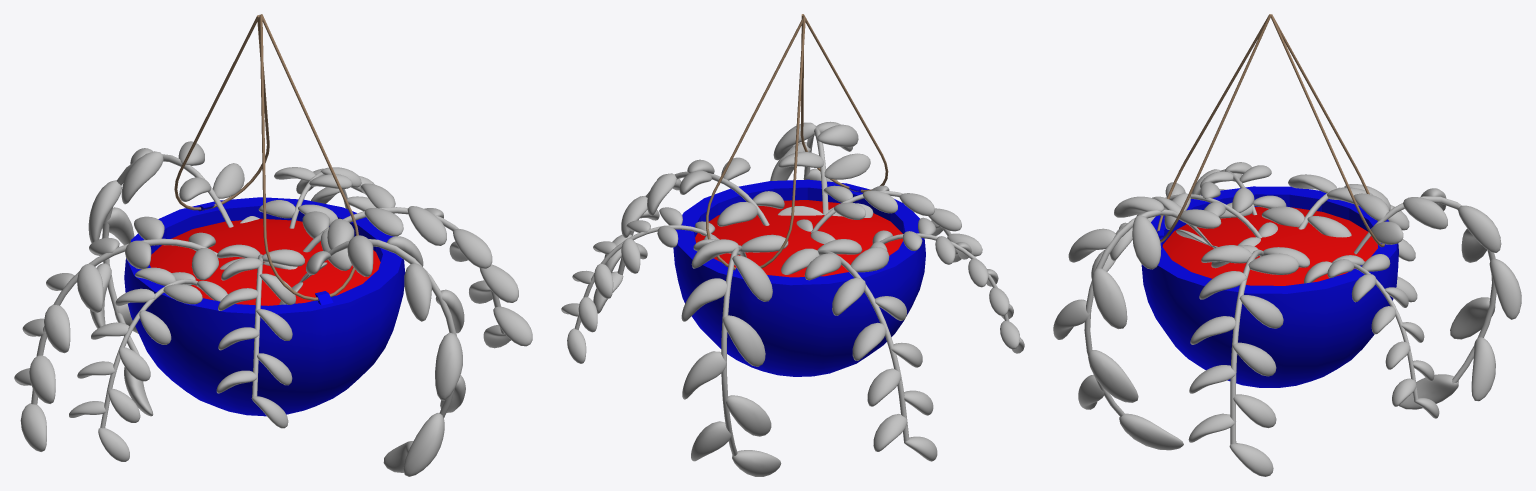
The model's file is HangingPlant.fbx.
The picture shows the model from 3 angles, left to right: view 1: azimuth 30°, elevation 25°; view 2: azimuth 150°, elevation 25°; view 3: azimuth 270°, elevation 25°; orthographic projection. The views are drawn at different scales.
Visible parts, largest first — view 1: HangingPlant7:hangingpot, HangingPlant7:pasted__pasted__pasted__pasted__pasted__pasted (×32), pasted__pasted__pSphere2, HangingPlant7:pasted__pasted__pasted__pasted__pasted__pSpher (×3), HangingPlant7:rope1, HangingPlant7:pasted__rope1, HangingPlant7:pasted__pCylinder1, HangingPlant7:pCylinder1, HangingPlant7:pasted__pasted__pCylinder2, HangingPlant7:pasted__pasted__pasted__pasted__pSphere1, HangingPlant7:pasted__pCylinder3, HangingPlant7:pasted__pasted__pCylinder3 (+1 smaller); view 2: HangingPlant7:pasted__pasted__pasted__pasted__pasted__pasted (×31), HangingPlant7:hangingpot, pasted__pasted__pSphere2, HangingPlant7:pasted__pasted__pasted__pasted__pasted__pSpher (×3), HangingPlant7:pasted__rope1, HangingPlant7:pasted__pCylinder1, HangingPlant7:pCylinder1, HangingPlant7:rope1, HangingPlant7:pasted__pasted__pCylinder1, HangingPlant7:pasted__pCylinder2, HangingPlant7:pasted__pasted__pCylinder2, HangingPlant7:pasted__pasted__pasted__pasted__pSphere1; view 3: HangingPlant7:pasted__pasted__pasted__pasted__pasted__pasted (×29), HangingPlant7:hangingpot, pasted__pasted__pSphere2, HangingPlant7:pasted__pasted__pasted__pasted__pasted__pSpher (×2), HangingPlant7:rope1, HangingPlant7:pasted__rope1, HangingPlant7:pasted__pasted__pCylinder2, HangingPlant7:pasted__pCylinder1, HangingPlant7:pasted__pCylinder2, HangingPlant7:pasted__pasted__pCylinder1.
Part boxes in pixels (bbox=[...]): HangingPlant7:hangingpot: bbox=[124, 197, 405, 416]; HangingPlant7:pasted__pasted__pasted__pasted__pasted__pasted (×32): bbox=[44, 151, 532, 476]; pasted__pasted__pSphere2: bbox=[149, 218, 380, 305]; HangingPlant7:pasted__pasted__pasted__pasted__pasted__pSpher (×3): bbox=[29, 355, 153, 461]; HangingPlant7:rope1: bbox=[259, 14, 358, 300]; HangingPlant7:pasted__rope1: bbox=[174, 15, 269, 210]; HangingPlant7:pasted__pCylinder1: bbox=[102, 154, 233, 354]; HangingPlant7:pCylinder1: bbox=[31, 238, 217, 404]; HangingPlant7:pasted__pasted__pCylinder2: bbox=[299, 239, 456, 417]; HangingPlant7:pasted__pasted__pasted__pasted__pSphere1: bbox=[20, 403, 46, 451]; HangingPlant7:pasted__pCylinder3: bbox=[100, 279, 197, 428]; HangingPlant7:pasted__pasted__pCylinder3: bbox=[252, 254, 263, 397]; HangingPlant7:pasted__pasted__pasted__pasted__pasted__pasted (×31): bbox=[567, 122, 961, 461]; HangingPlant7:hangingpot: bbox=[673, 179, 925, 376]; pasted__pasted__pSphere2: bbox=[695, 200, 902, 277]; HangingPlant7:pasted__pasted__pasted__pasted__pasted__pSpher (×3): bbox=[732, 390, 933, 476]; HangingPlant7:pasted__rope1: bbox=[706, 16, 805, 270]; HangingPlant7:pasted__pCylinder1: bbox=[721, 245, 746, 455]; HangingPlant7:pCylinder1: bbox=[817, 250, 909, 441]; HangingPlant7:rope1: bbox=[800, 14, 888, 192]; HangingPlant7:pasted__pasted__pCylinder1: bbox=[574, 225, 719, 329]; HangingPlant7:pasted__pCylinder2: bbox=[617, 171, 769, 275]; HangingPlant7:pasted__pasted__pCylinder2: bbox=[804, 126, 828, 215]; HangingPlant7:pasted__pasted__pasted__pasted__pSphere1: bbox=[904, 436, 937, 461]; HangingPlant7:pasted__pasted__pasted__pasted__pasted__pasted (×29): bbox=[1053, 174, 1521, 450]; HangingPlant7:hangingpot: bbox=[1141, 186, 1398, 387]; pasted__pasted__pSphere2: bbox=[1162, 207, 1377, 285]; HangingPlant7:pasted__pasted__pasted__pasted__pasted__pSpher (×2): bbox=[1229, 374, 1458, 476]; HangingPlant7:rope1: bbox=[1157, 14, 1271, 242]; HangingPlant7:pasted__rope1: bbox=[1271, 14, 1384, 247]; HangingPlant7:pasted__pasted__pCylinder2: bbox=[1084, 209, 1212, 416]; HangingPlant7:pasted__pCylinder1: bbox=[1354, 196, 1496, 384]; HangingPlant7:pasted__pCylinder2: bbox=[1230, 249, 1263, 444]; HangingPlant7:pasted__pasted__pCylinder1: bbox=[1332, 262, 1418, 400].
Bounding box in the file's own units: 40.45 × 37.87 × 39.04.
